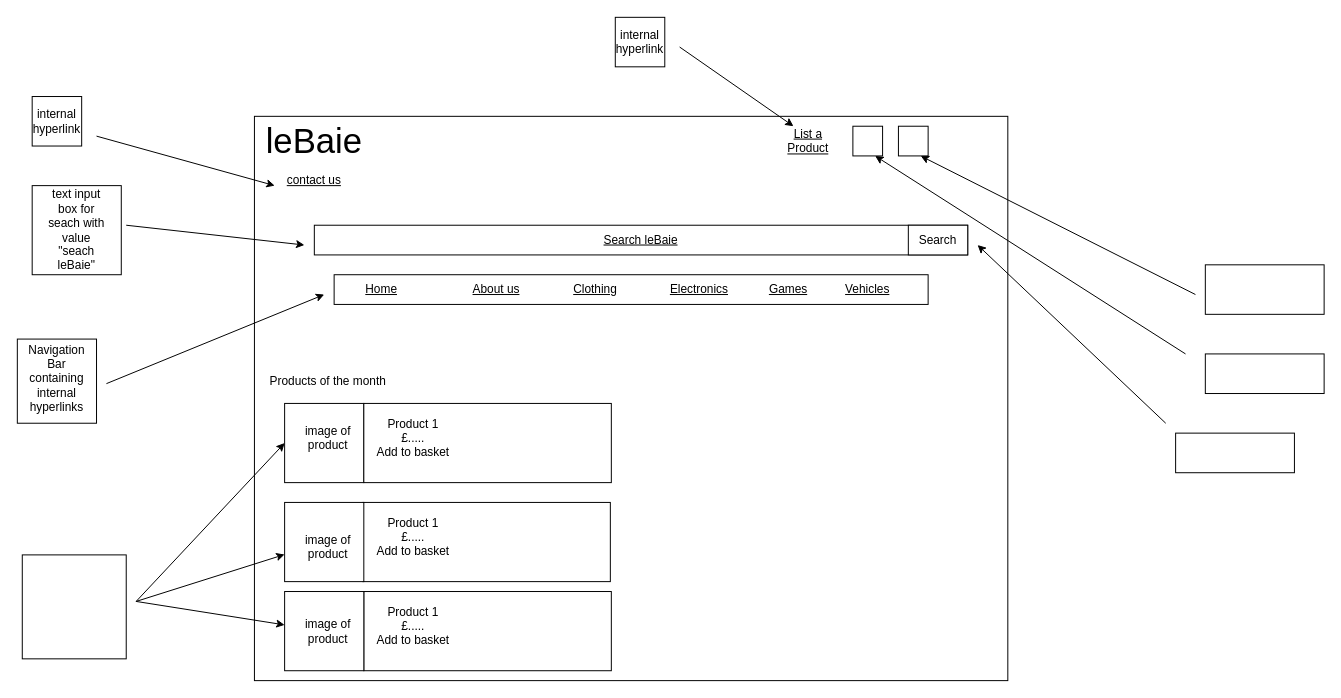
Some shapes in this 1341 by 698 pixel diagram are drawn without their labels. The shapes that lost their labels are listed below. From the top down, each one's centre as x and y in pixels, then its label:
point (1264, 289): onclick image that takes you to "basket" page
point (1264, 373): onclick image that takes you to "profile" page
point (1234, 452): carrys out process of search
point (73, 606): products of month on website using php and SQL to display data
